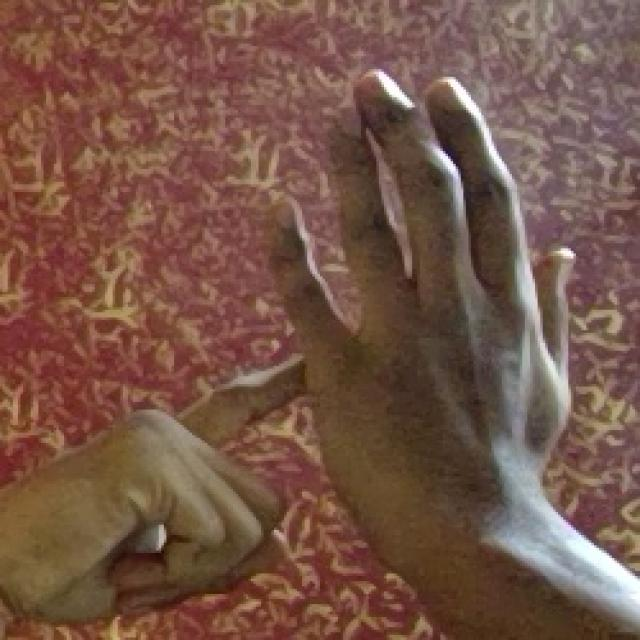Alphabet-R: (0, 55, 604, 630)
